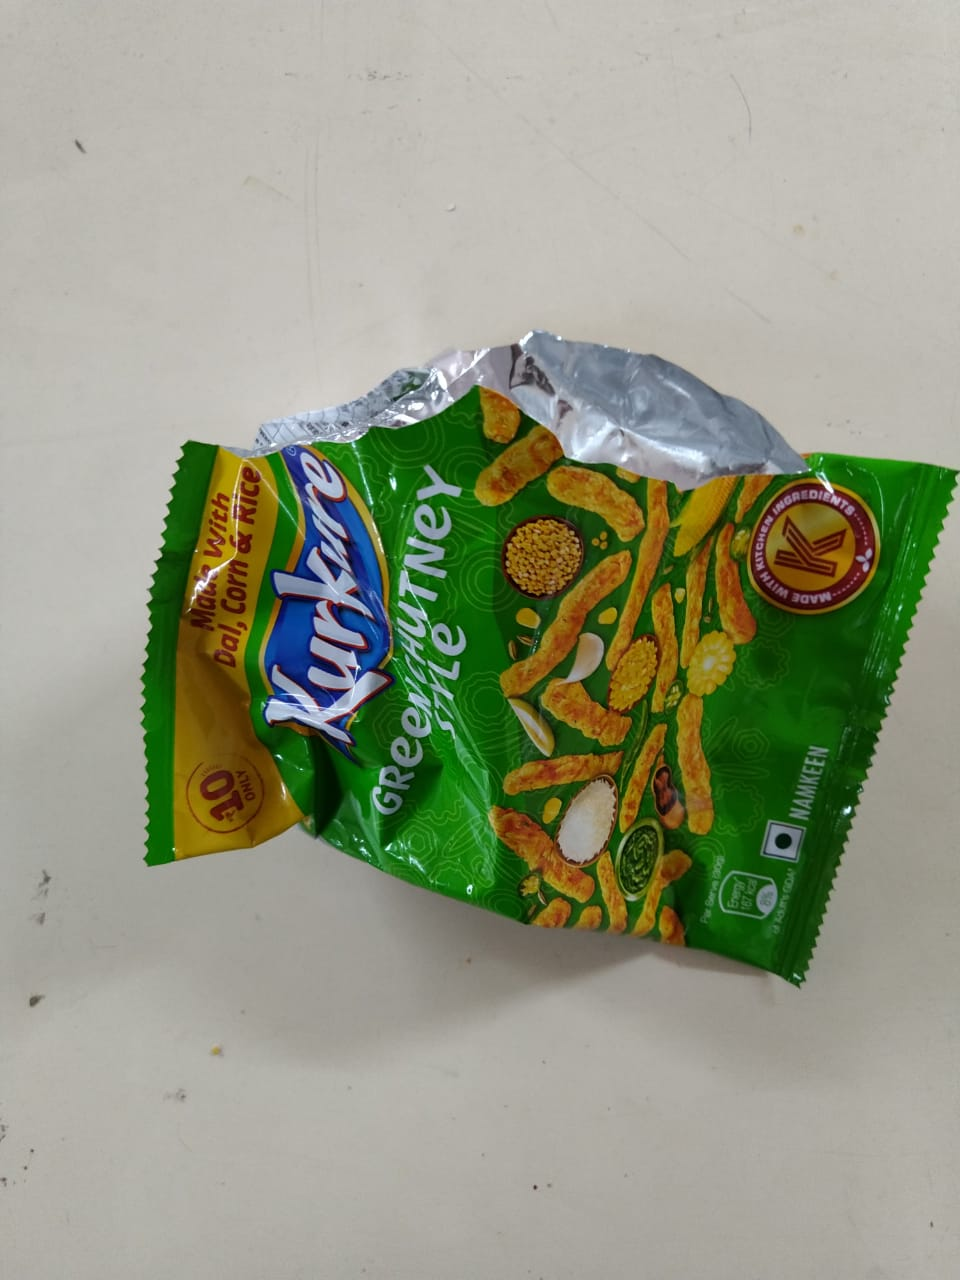kurkure: (241, 395, 463, 792), (263, 440, 404, 747), (274, 529, 417, 766), (284, 385, 414, 604)
plastic: (261, 289, 890, 1000)
wrapper: (143, 318, 933, 884)
